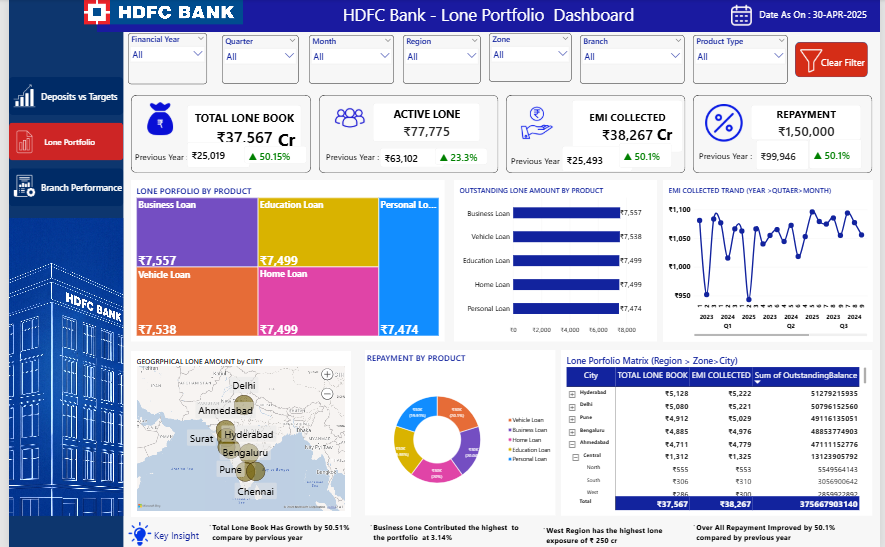

Layout of this report page (visuals, bound fields, positions):
{"tool":"powerbi","page":{"name":"Lone Portfolio ","canvas":[2500,1580],"ordinal":1},"visuals":[{"type":"shape","box":[250.1,0,2249.9,94.8],"z":0,"group":"g1"},{"type":"slicer","fields":{"Values":["DimDate.Finanical Year"]},"box":[342.2,97.8,227,146.6],"z":0,"group":"g3"},{"type":"pageNavigator","box":[0,224.4,328.6,372.9],"z":0,"group":"g2"},{"type":"shape","box":[891.1,274.9,515.1,224.4],"z":0,"group":"g7"},{"type":"shape","box":[349.2,275.8,516.8,223.5],"z":0,"group":"g5"},{"type":"shape","box":[1428.1,275.8,515.1,224.4],"z":0,"group":"g6"},{"type":"shape","box":[1965.8,275.8,515.1,224.4],"z":0,"group":"g8"},{"type":"textbox","box":[417.5,1521.2,150,38.8],"z":0,"group":"g4"},{"type":"image","box":[2073.4,9.5,60,75.8],"z":1000,"group":"g1"},{"type":"slicer","fields":{"Values":["DimDate.Quarter"]},"box":[611.1,104.8,220,139.7],"z":1000,"group":"g3"},{"type":"image","box":[12.6,240.2,66.4,72.7],"z":1000,"group":"g2"},{"type":"image","box":[920.5,287,119.8,107.8],"z":1000,"group":"g7"},{"type":"image","box":[373.1,290.3,122.2,108.2],"z":1000,"group":"g5"},{"type":"image","box":[1457.5,300.5,119.8,107.8],"z":1000,"group":"g6"},{"type":"image","box":[1995.2,300.5,119.8,107.8],"z":1000,"group":"g8"},{"type":"image","box":[342,1502,68,68],"z":1000,"group":"g4"},{"type":"textbox","box":[2146.1,25.3,322.3,50.6],"z":2000,"group":"g1"},{"type":"slicer","fields":{"Values":["DimDate.Month"]},"box":[862.5,104.8,244.4,139.7],"z":2000,"group":"g3"},{"type":"cardVisual","fields":{"Data":["Page2_All_Measure.EMI COLLECTED"]},"box":[1616.6,289.8,317.7,150.1],"z":2000,"group":"g6"},{"type":"cardVisual","fields":{"Data":["Page2_All_Measure.ACTIVE LONE"]},"box":[1047.5,296.8,307.3,111.7],"z":2000,"group":"g7"},{"type":"cardVisual","fields":{"Data":["Page2_All_Measure.TOTAL LONE BOOKE"]},"box":[509.2,304.3,328.2,132.7],"z":2000,"group":"g5"},{"type":"cardVisual","fields":{"Data":["Page2_All_Measure.REPAYMENT"]},"box":[2133.1,305.7,316.5,100.7],"z":2000,"group":"g8"},{"type":"image","box":[12.6,372.9,66.4,72.7],"z":2000,"group":"g2"},{"type":"textbox","box":[567.5,1502.5,435,67.5],"z":2000,"group":"g4"},{"type":"textbox","box":[888.4,12.6,973.3,88.5],"z":3000,"group":"g1"},{"type":"slicer","fields":{"Values":["DimBranch.Region"]},"box":[1131.3,104.8,223.5,139.7],"z":3000,"group":"g3"},{"type":"textbox","box":[1861.3,360.2,82.2,66.4],"z":3000,"group":"g6"},{"type":"textbox","box":[771.1,370.6,52.4,76.8],"z":3000,"group":"g5"},{"type":"textbox","box":[1982,435.2,165.5,50.4],"z":3000,"group":"g8"},{"type":"textbox","box":[910.1,436.1,186.4,37.9],"z":3000,"group":"g7"},{"type":"image","box":[12.6,499.3,66.4,72.7],"z":3000,"group":"g2"},{"type":"textbox","box":[1028.8,1502.5,468.8,67.5],"z":3000,"group":"g4"},{"type":"image","box":[211.2,3.5,460.9,69.8],"z":4000,"group":"g1"},{"type":"slicer","fields":{"Values":["DimBranch.Zone"]},"box":[1379.2,97.8,237.4,139.7],"z":4000,"group":"g3"},{"type":"cardVisual","fields":{"Data":["Page2_All_Measure.Previous Year Repayment"]},"box":[2147.5,406.4,151.1,86.3],"z":4000,"group":"g8"},{"type":"cardVisual","fields":{"Data":["Page2_All_Measure.Previous Year Active Lone"]},"box":[1064.9,426,185.1,55.9],"z":4000,"group":"g7"},{"type":"textbox","box":[360.3,436,186.4,50.6],"z":4000,"group":"g5"},{"type":"textbox","box":[1442.1,446.9,174.6,52.4],"z":4000,"group":"g6"},{"type":"treemap","title":" LONE PORFOLIO BY PRODUCT","fields":{"Group":["DimProduct.ProductName"],"Values":["Page2_All_Measure.TOTAL LONE BOOK"]},"box":[349.2,520.3,900.8,464.4],"z":4000},{"type":"image","box":[0,628.9,328.6,856.4],"z":4000,"group":"g2"},{"type":"textbox","box":[1525,1511.2,416.2,58.8],"z":4000,"group":"g4"},{"type":"slicer","fields":{"Values":["DimBranch.BranchName"]},"box":[1641.1,104.8,300.3,139.7],"z":5000,"group":"g3"},{"type":"cardVisual","fields":{"Data":["Page2_All_Measure.Difference Repayment Arrow"]},"box":[2298.6,402.8,151.1,86.3],"z":5000,"group":"g8"},{"type":"cardVisual","fields":{"Data":["Page2_All_Measure.Previous Year Lone Book"]},"box":[509.8,412,181.6,73.3],"z":5000,"group":"g5"},{"type":"cardVisual","fields":{"Data":["Page2_All_Measure.Previous Year EMI Collected"]},"box":[1588.7,422.4,202.5,73.3],"z":5000,"group":"g6"},{"type":"cardVisual","fields":{"Data":["Page2_All_Measure.Active Lone Arrow"]},"box":[1225.5,426,150.1,48.9],"z":5000,"group":"g7"},{"type":"clusteredBarChart","title":"OUTSTANDING LONE AMOUNT BY PRODUCT","fields":{"Category":["DimProduct.ProductName"],"Y":["Page2_All_Measure.TOTAL LONE BOOK"]},"box":[1277.9,520.3,583.1,464.4],"z":5000},{"type":"textbox","box":[1956.2,1502.5,493.8,67.5],"z":5000,"group":"g4"},{"type":"donutChart","title":"REPAYMENT BY PRODUCT ","fields":{"Category":["DimProduct.ProductName"],"Y":["Page2_All_Measure.REPAYMENT"]},"box":[1021.6,1007.2,546.8,474.8],"z":5500},{"type":"shape","box":[2259.1,122.2,209.5,101.3],"z":6000,"group":"g3"},{"type":"cardVisual","fields":{"Data":["Page2_All_Measure.EMI Collected Arrow"]},"box":[1751.8,413.6,151.1,71.9],"z":6000,"group":"g6"},{"type":"cardVisual","fields":{"Data":["Page2_All_Measure.Lone Book Arrow"]},"box":[673.1,423.4,180.1,50.6],"z":6000,"group":"g5"},{"type":"lineChart","title":"EMI COLLECTED TRAND (YEAR >QUTAER>MONTH)","fields":{"Category":["DimDate.Year","DimDate.Month","DimDate.Quarter"],"Y":["Page2_All_Measure.EMI COLLECTED"]},"box":[1877.5,520,602.5,465],"z":6000},{"type":"slicer","fields":{"Values":["DimProduct.ProductName"]},"box":[1965.8,104.8,272.3,139.7],"z":7000,"group":"g3"},{"type":"map","title":"GEOGRPHICAL LONE AMOUNT by CIITY","fields":{"Category":["DimBranch.City"],"Size":["Page2_All_Measure.TOTAL LONE BOOK"]},"box":[350,1010,630,475],"z":7000},{"type":"image","box":[2273.1,132.7,66.3,90.8],"z":8000,"group":"g3"},{"type":"pivotTable","title":"Lone Porfolio Matrix (Region > Zone>City)","fields":{"Rows":["DimBranch.City","DimBranch.Region","DimBranch.Zone"],"Values":["Page2_All_Measure.TOTAL LONE BOOK","Page2_All_Measure.EMI COLLECTED","Sum(FactLoanRepayments.OutstandingBalance)"]},"box":[1586,1008,894,476],"z":8000},{"type":"shape","title":"Left Pane ","box":[0,0,328.6,1580],"z":8062},{"type":"group","id":"g1","title":"Top Pane","box":[211.2,0,2288.8,101.1],"z":8125},{"type":"group","id":"g2","title":"Left Side ","box":[0,224.4,328.6,1260.8],"z":8250},{"type":"group","id":"g3","title":"Top Slicer","box":[342.2,97.8,2126.4,146.6],"z":8500},{"type":"textbox","box":[2325.4,164.1,143.2,73.3],"z":9000,"group":"g3"},{"type":"group","id":"g4","title":"Key Insight","box":[342,1502,2108,68],"z":9000},{"type":"group","id":"g5","title":"LONE BOOK ","box":[349.2,275.8,516.8,223.5],"z":10000},{"type":"group","id":"g6","title":"EMI COLLECTED ","box":[1428.1,275.8,515.3,224.4],"z":11000},{"type":"group","id":"g7","title":"ACTIVE LONE ","box":[891.1,274.9,515.1,224.4],"z":12000},{"type":"group","id":"g8","title":"REPAYMENT","box":[1965.8,275.8,515.1,224.4],"z":14000}]}

Visuals, with their boxes in screenshot pixels (x1, y1, x2, y2), scaled from the page's 2500x1580 canvas onto the 885x547 screenshot:
shape: select_region(89, 0, 884, 33)
slicer - DimDate.Finanical Year: select_region(121, 34, 201, 85)
pageNavigator: select_region(0, 78, 116, 207)
shape: select_region(315, 95, 498, 173)
shape: select_region(124, 95, 307, 173)
shape: select_region(506, 95, 688, 173)
shape: select_region(696, 95, 878, 173)
textbox: select_region(148, 527, 201, 540)
image: select_region(734, 3, 755, 30)
slicer - DimDate.Quarter: select_region(216, 36, 294, 85)
image: select_region(4, 83, 28, 108)
image: select_region(326, 99, 368, 137)
image: select_region(132, 101, 175, 138)
image: select_region(516, 104, 558, 141)
image: select_region(706, 104, 749, 141)
image: select_region(121, 520, 145, 544)
textbox: select_region(760, 9, 874, 26)
slicer - DimDate.Month: select_region(305, 36, 392, 85)
cardVisual - Page2_All_Measure.EMI COLLECTED: select_region(572, 100, 685, 152)
cardVisual - Page2_All_Measure.ACTIVE LONE: select_region(371, 103, 480, 141)
cardVisual - Page2_All_Measure.TOTAL LONE BOOKE: select_region(180, 105, 296, 151)
cardVisual - Page2_All_Measure.REPAYMENT: select_region(755, 106, 867, 141)
image: select_region(4, 129, 28, 154)
textbox: select_region(201, 520, 355, 544)
textbox: select_region(314, 4, 659, 35)
slicer - DimBranch.Region: select_region(400, 36, 480, 85)
textbox: select_region(659, 125, 688, 148)
textbox: select_region(273, 128, 292, 155)
textbox: select_region(702, 151, 760, 168)
textbox: select_region(322, 151, 388, 164)
image: select_region(4, 173, 28, 198)
textbox: select_region(364, 520, 530, 544)
image: select_region(75, 1, 238, 25)
slicer - DimBranch.Zone: select_region(488, 34, 572, 82)
cardVisual - Page2_All_Measure.Previous Year Repayment: select_region(760, 141, 814, 171)
cardVisual - Page2_All_Measure.Previous Year Active Lone: select_region(377, 147, 442, 167)
textbox: select_region(128, 151, 194, 168)
textbox: select_region(511, 155, 572, 173)
" LONE PORFOLIO BY PRODUCT" treemap: select_region(124, 180, 442, 341)
image: select_region(0, 218, 116, 514)
textbox: select_region(540, 523, 687, 544)
slicer - DimBranch.BranchName: select_region(581, 36, 687, 85)
cardVisual - Page2_All_Measure.Difference Repayment Arrow: select_region(814, 139, 867, 169)
cardVisual - Page2_All_Measure.Previous Year Lone Book: select_region(180, 143, 245, 168)
cardVisual - Page2_All_Measure.Previous Year EMI Collected: select_region(562, 146, 634, 172)
cardVisual - Page2_All_Measure.Active Lone Arrow: select_region(434, 147, 487, 164)
"OUTSTANDING LONE AMOUNT BY PRODUCT" clusteredBarChart: select_region(452, 180, 659, 341)
textbox: select_region(692, 520, 867, 544)
"REPAYMENT BY PRODUCT " donutChart: select_region(362, 349, 555, 513)
shape: select_region(800, 42, 874, 77)
cardVisual - Page2_All_Measure.EMI Collected Arrow: select_region(620, 143, 674, 168)
cardVisual - Page2_All_Measure.Lone Book Arrow: select_region(238, 147, 302, 164)
"EMI COLLECTED TRAND (YEAR >QUTAER>MONTH)" lineChart: select_region(665, 180, 878, 341)
slicer - DimProduct.ProductName: select_region(696, 36, 792, 85)
"GEOGRPHICAL LONE AMOUNT by CIITY" map: select_region(124, 350, 347, 514)
image: select_region(805, 46, 828, 77)
"Lone Porfolio Matrix (Region > Zone>City)" pivotTable: select_region(561, 349, 878, 514)
"Left Pane " shape: select_region(0, 0, 116, 546)
"Top Pane" group: select_region(75, 0, 884, 35)
"Left Side " group: select_region(0, 78, 116, 514)
"Top Slicer" group: select_region(121, 34, 874, 85)
textbox: select_region(823, 57, 874, 82)
"Key Insight" group: select_region(121, 520, 867, 544)
"LONE BOOK " group: select_region(124, 95, 307, 173)
"EMI COLLECTED " group: select_region(506, 95, 688, 173)
"ACTIVE LONE " group: select_region(315, 95, 498, 173)
"REPAYMENT" group: select_region(696, 95, 878, 173)
